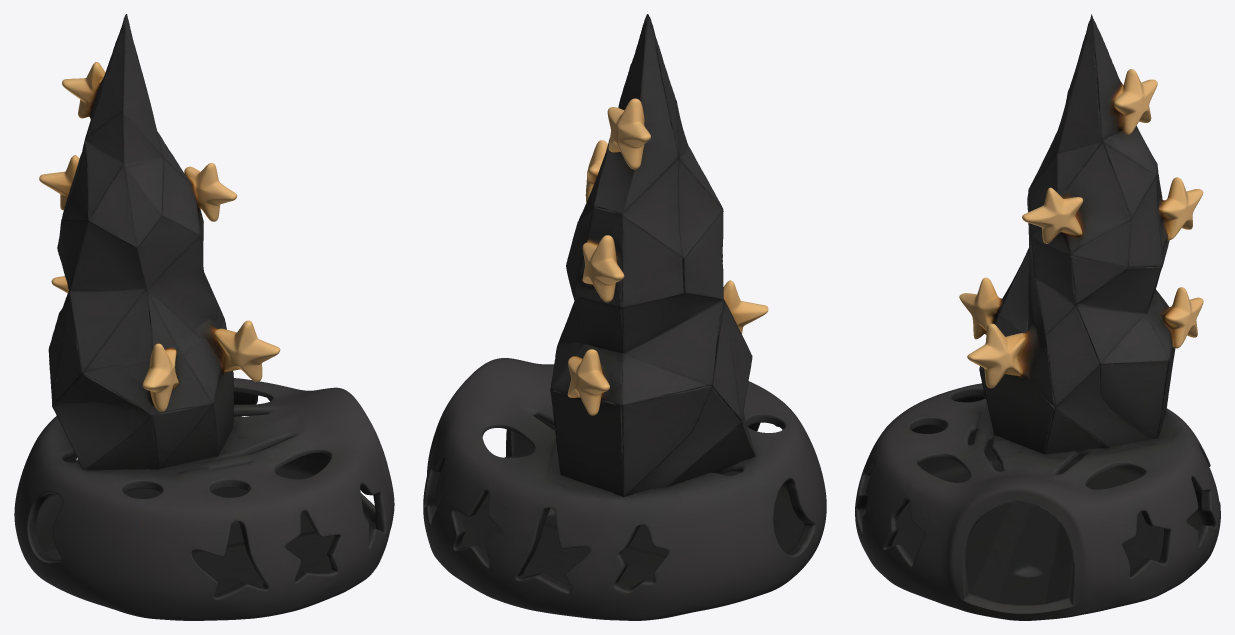
The model's file is raw.glb.
The picture shows the model from 3 angles, left to right: view 1: azimuth 30°, elevation 25°; view 2: azimuth 150°, elevation 25°; view 3: azimuth 270°, elevation 25°; orthographic projection. The views are drawn at different scales.
Visible parts, largest first — view 1: tripo_node_cb198880-eec2-48ee-aa8a-b9fcef4cfbd1; view 2: tripo_node_cb198880-eec2-48ee-aa8a-b9fcef4cfbd1; view 3: tripo_node_cb198880-eec2-48ee-aa8a-b9fcef4cfbd1.
Part boxes in pixels (<box>): tripo_node_cb198880-eec2-48ee-aa8a-b9fcef4cfbd1: <box>14,14,394,620</box>; tripo_node_cb198880-eec2-48ee-aa8a-b9fcef4cfbd1: <box>423,14,826,620</box>; tripo_node_cb198880-eec2-48ee-aa8a-b9fcef4cfbd1: <box>855,14,1220,620</box>.
Bounding box in the file's own units: 0.6508 × 1 × 0.6518.
1 material, 1 textured.
